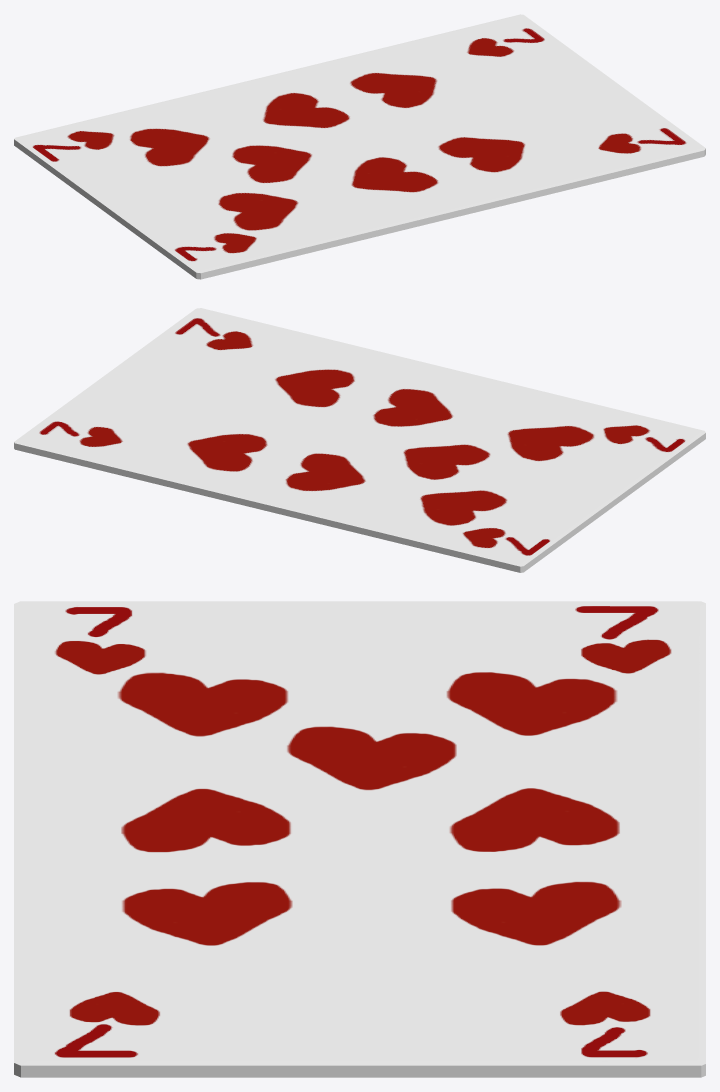
Rendered from 7_Hearts.fbx.
The picture shows the model from 3 angles, top to bottom: view 1: azimuth 30°, elevation 25°; view 2: azimuth 150°, elevation 25°; view 3: azimuth 270°, elevation 25°; orthographic projection. The views are drawn at different scales.
Parts seen in each view (by area): view 1: card7; view 2: card7; view 3: card7.
Boxes of the visible parts, bbox=[...] form: card7: bbox=[14, 14, 705, 279]; card7: bbox=[14, 308, 705, 572]; card7: bbox=[14, 601, 705, 1077].
Size of the model in its own units: 540 by 6.56 by 340.
